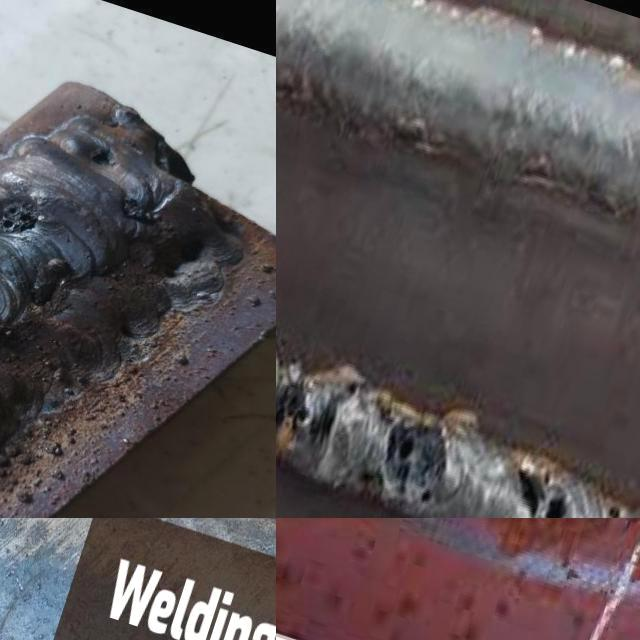defect: (376, 420, 449, 504), (276, 377, 342, 456), (508, 452, 573, 518), (118, 193, 167, 230), (0, 197, 44, 235), (88, 145, 122, 170), (600, 499, 628, 518)
